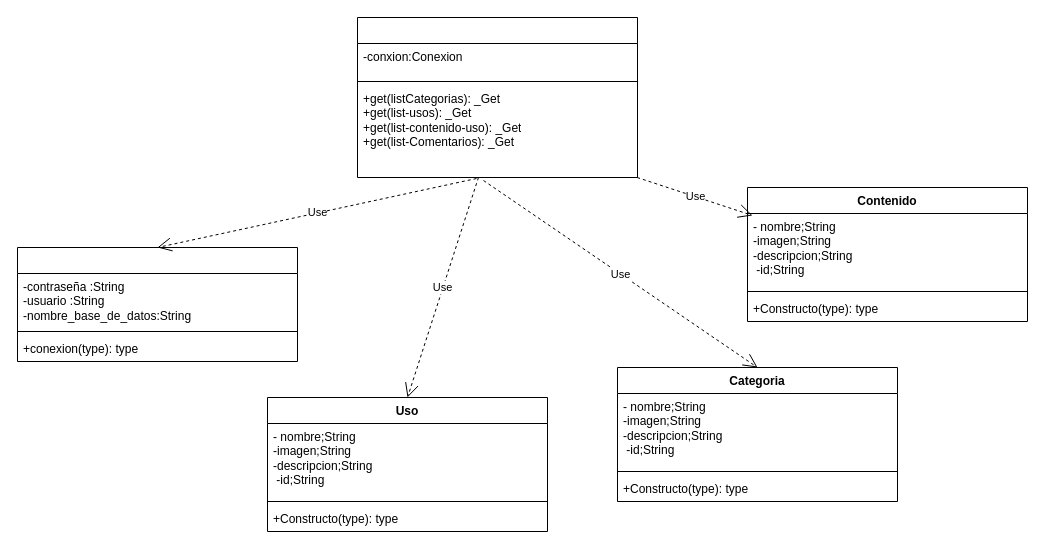
Some shapes in this 1045 by 552 pixel diagram are drawn without their labels. The shapes that lost their labels are listed below. From the top down, each one's box as (x1, y1, x2, y2) in pixels, then its label:
(356, 16, 638, 178): index
(16, 246, 298, 362): ConexionDB
